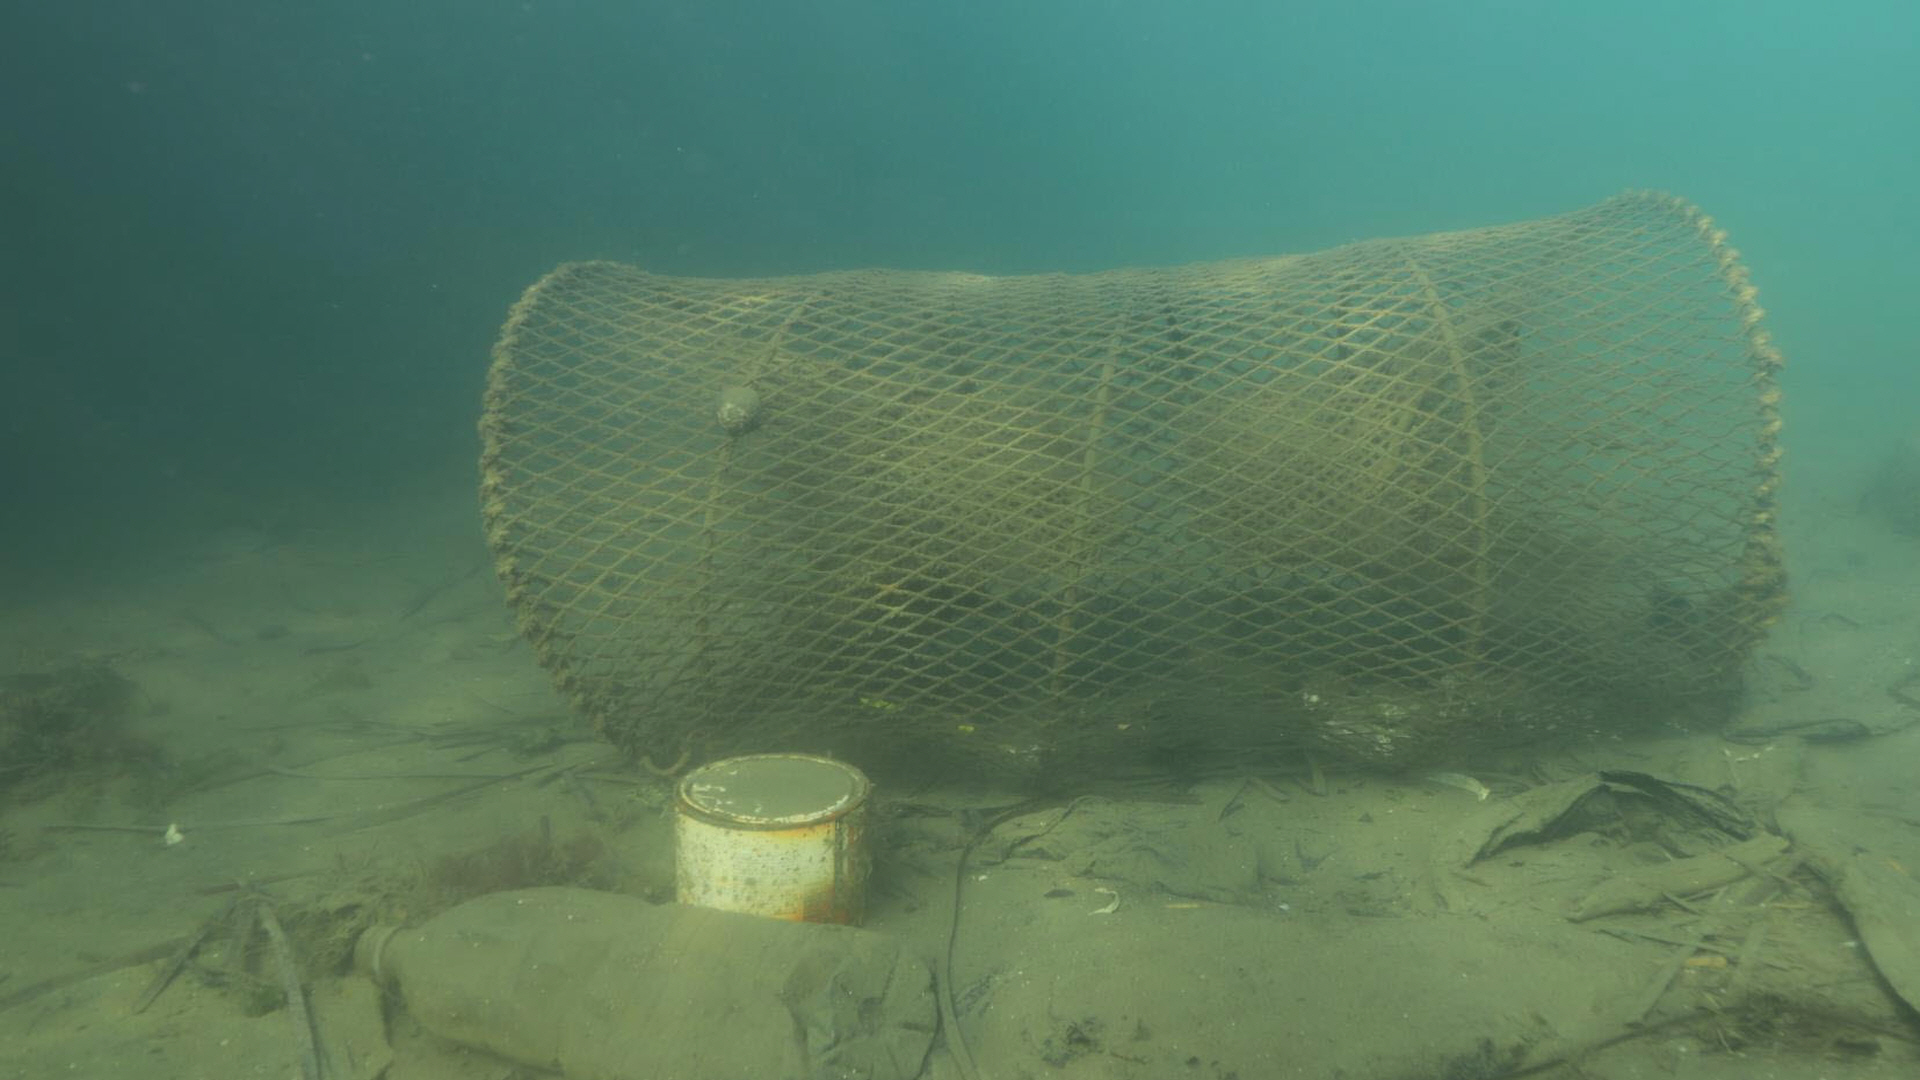spring fish trap: (476, 187, 1785, 778)
